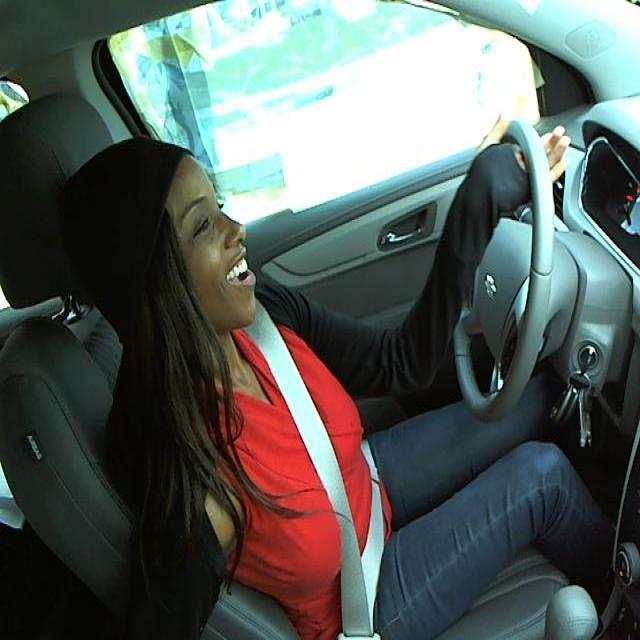seatbelt: (242, 326, 395, 598)
